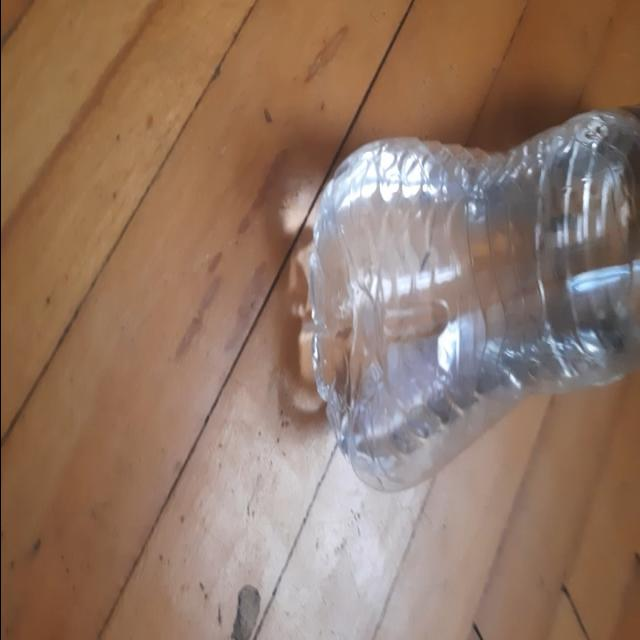Plastic: (290, 106, 640, 495)
